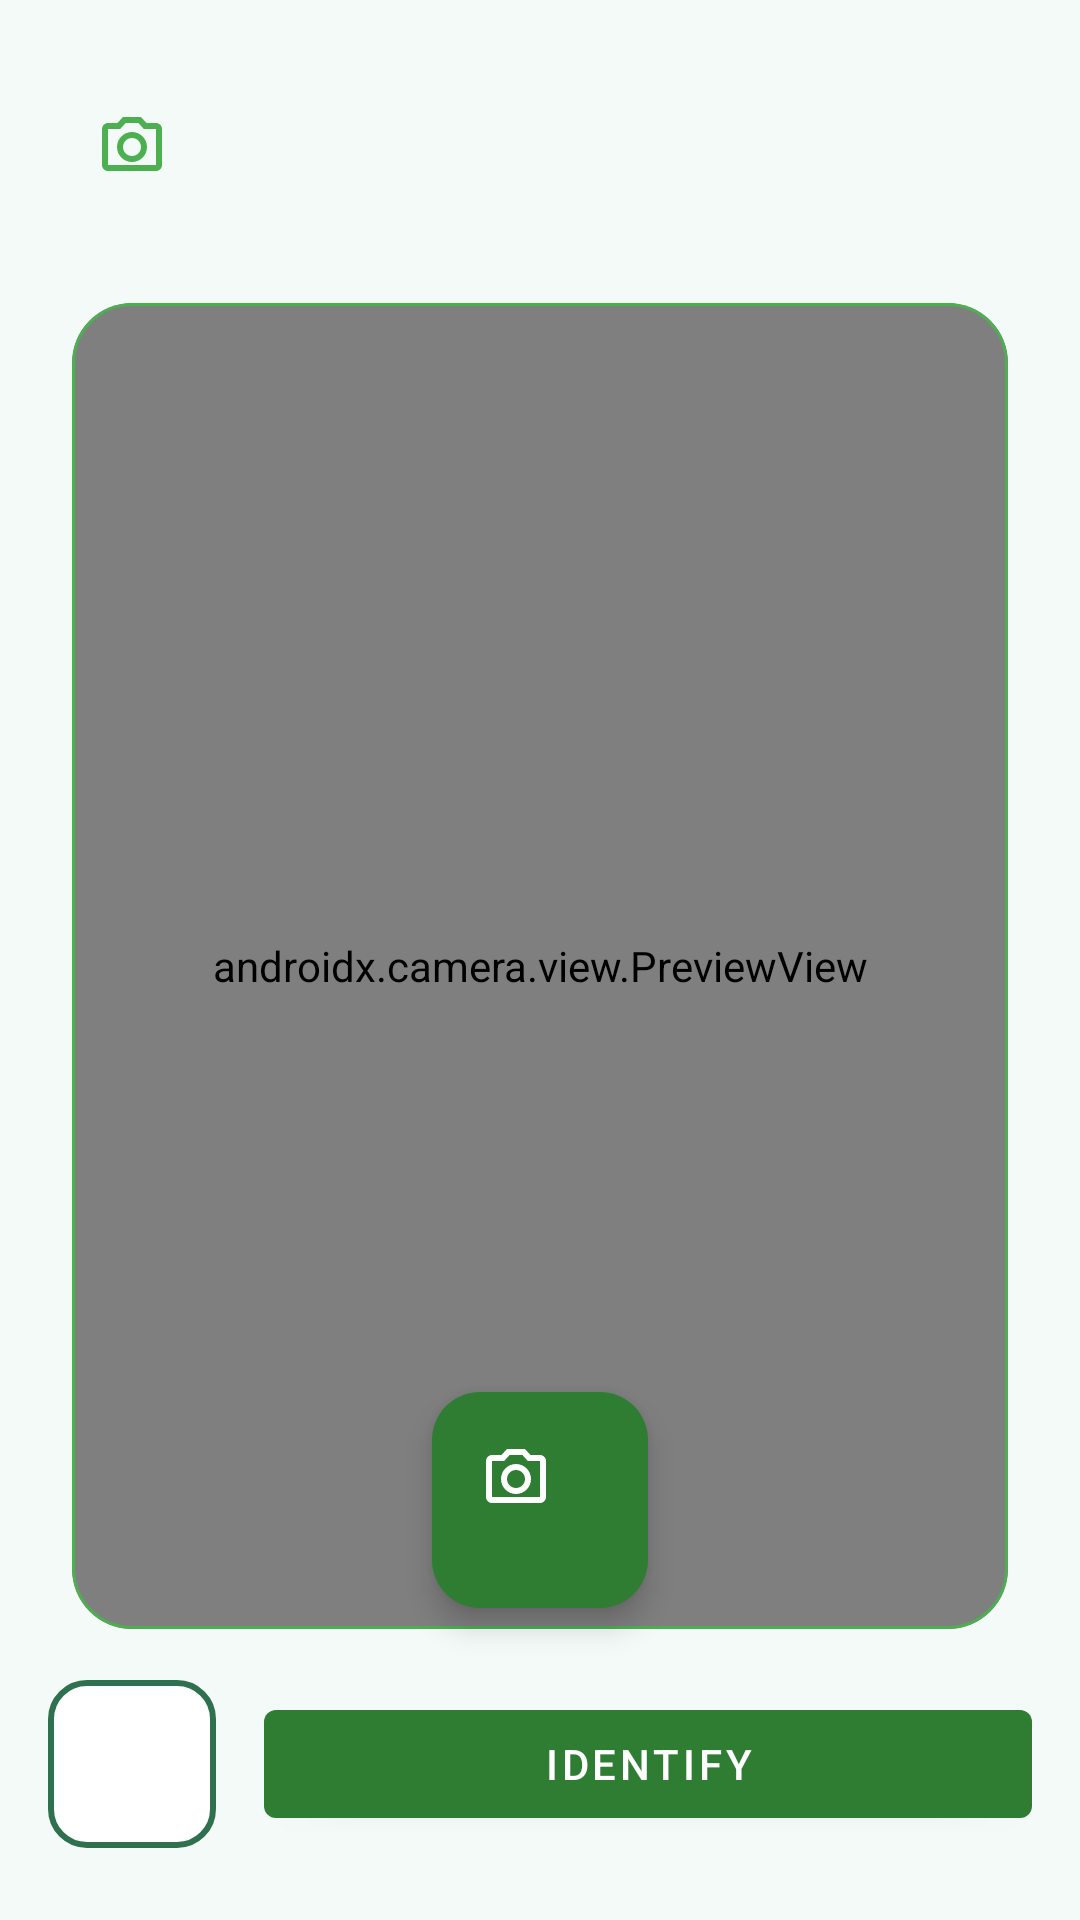

Screen size 1080 x 1920. Icon name, then its box in pixels as (x1, y1, x2, y2):
Capture: (432, 1392, 648, 1608)
